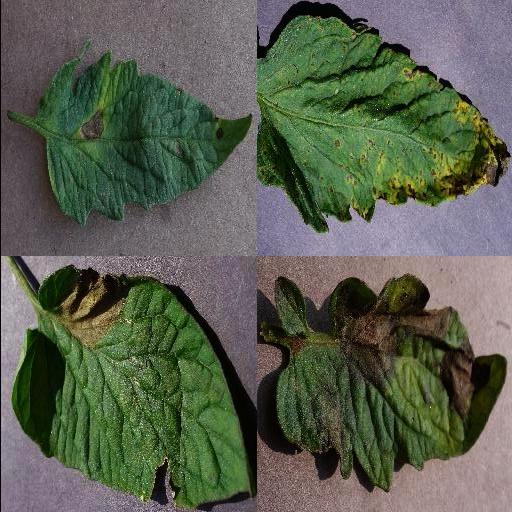Early Blight: (38, 44, 252, 226)
Late Blight: (13, 264, 255, 508), (271, 274, 507, 494)
Septoria: (256, 13, 511, 233)
